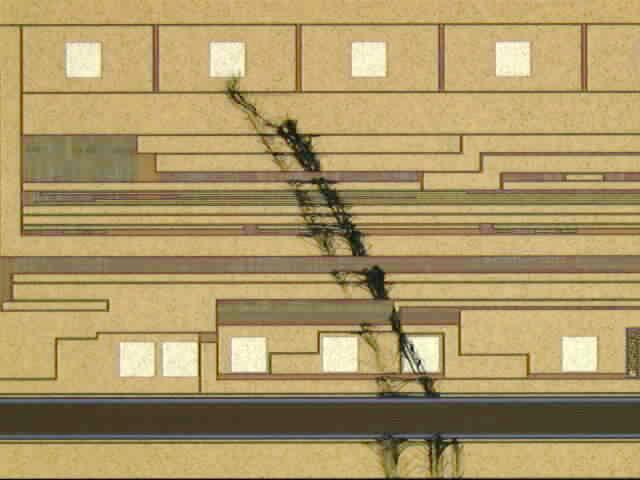SCRATCH: (213, 56, 471, 480)
